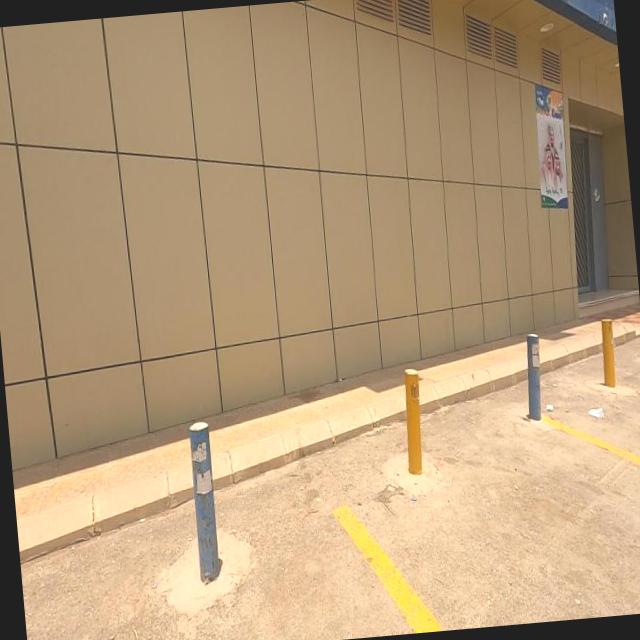debris: (566, 371, 631, 456), (524, 379, 578, 432)
